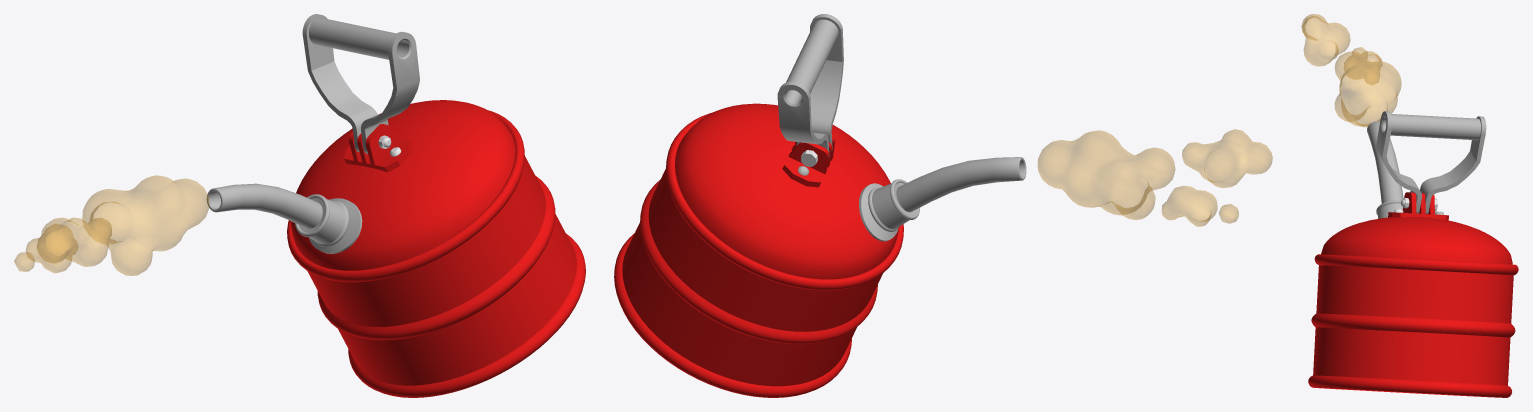
File: gas.glb
3 views of the same model, side by side, from view 1: azimuth 30°, elevation 25°; view 2: azimuth 150°, elevation 25°; view 3: azimuth 270°, elevation 25° (orthographic). The views are drawn at different scales.
Parts seen in each view (by area): view 1: Barrel.001, Gas, Handle.002, Spout.001, Hinge.001; view 2: Barrel.001, Gas, Handle.002, Spout.001, Hinge.001; view 3: Barrel.001, Gas, Handle.002, Spout.001, Hinge.001.
Part boxes in pixels (<box>): Barrel.001: <box>287,100,585,397</box>; Gas: <box>14,175,209,275</box>; Handle.002: <box>302,14,419,153</box>; Spout.001: <box>206,183,362,253</box>; Hinge.001: <box>344,124,412,172</box>; Barrel.001: <box>614,103,903,397</box>; Gas: <box>1038,129,1272,226</box>; Handle.002: <box>777,14,843,157</box>; Spout.001: <box>859,157,1026,241</box>; Hinge.001: <box>782,135,836,187</box>; Barrel.001: <box>1308,217,1518,397</box>; Gas: <box>1301,14,1401,126</box>; Handle.002: <box>1376,111,1486,213</box>; Spout.001: <box>1367,121,1403,218</box>; Hinge.001: <box>1388,192,1448,220</box>.
Size of the model in its own units: 2.85 by 1.67 by 1.15.
